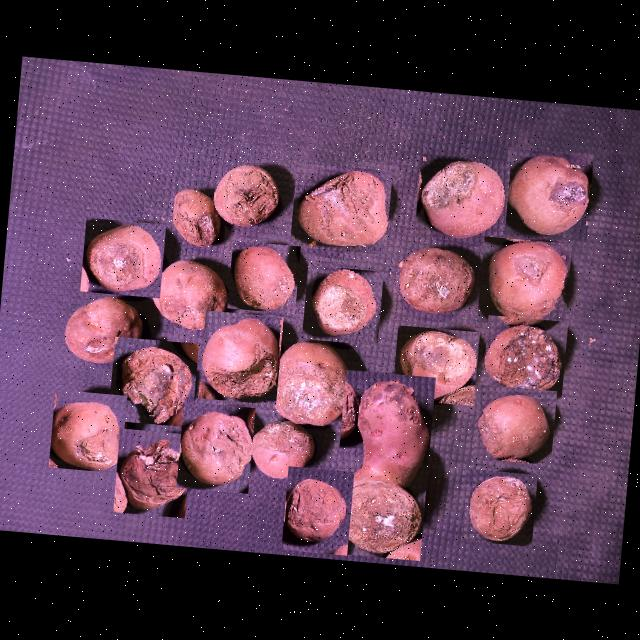Damaged potato: (330, 370, 436, 560), (290, 162, 392, 255), (414, 153, 511, 245), (501, 147, 594, 242), (266, 336, 352, 434), (108, 336, 198, 427), (198, 310, 283, 404), (481, 314, 568, 402), (145, 254, 236, 334), (176, 402, 255, 494), (112, 428, 192, 518), (392, 324, 479, 406), (58, 290, 144, 372), (80, 217, 166, 298), (390, 244, 479, 322), (472, 384, 556, 465), (48, 389, 127, 473), (302, 265, 384, 345), (281, 466, 354, 555), (208, 156, 284, 234), (462, 468, 538, 546), (248, 412, 316, 482), (166, 184, 226, 252)
Diseased-fungal potato: (476, 236, 572, 329), (227, 240, 300, 314)
